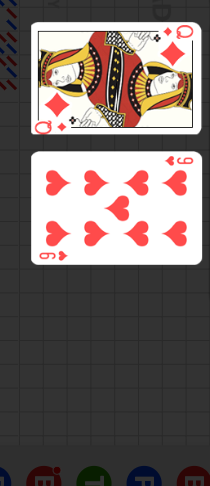9H: (163, 155, 195, 168), (38, 249, 70, 262)
QD: (31, 78, 78, 122), (152, 11, 198, 55)
